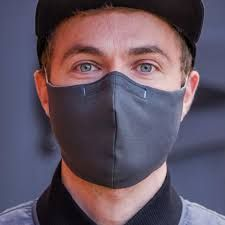with-mask: (30, 5, 201, 192)
